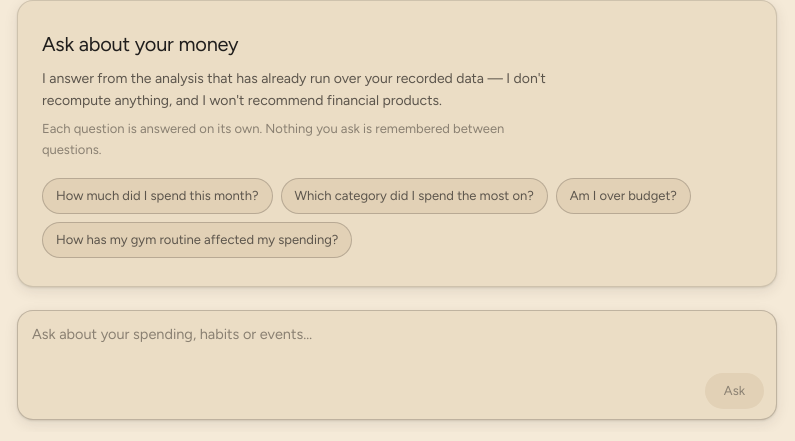
asking a question › shows the question, then the answer
Type "How much did I spend?" into the text box named "ask a question" at point(397, 343), box [30,321,764,365]
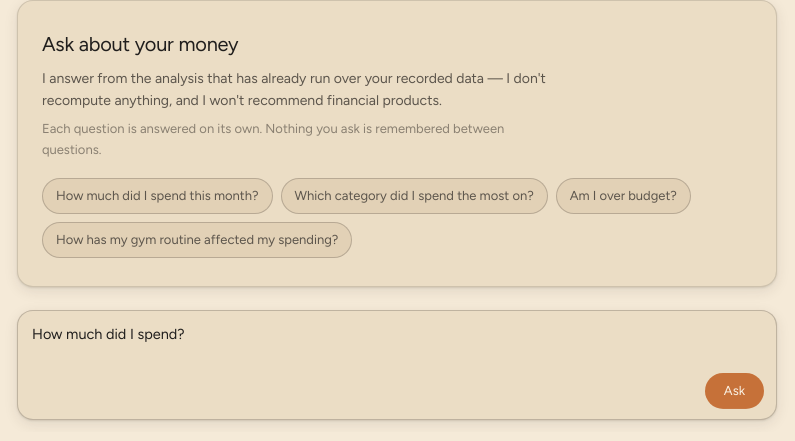
Click the button "Ask" at point(734, 391), box [705,373,764,409]
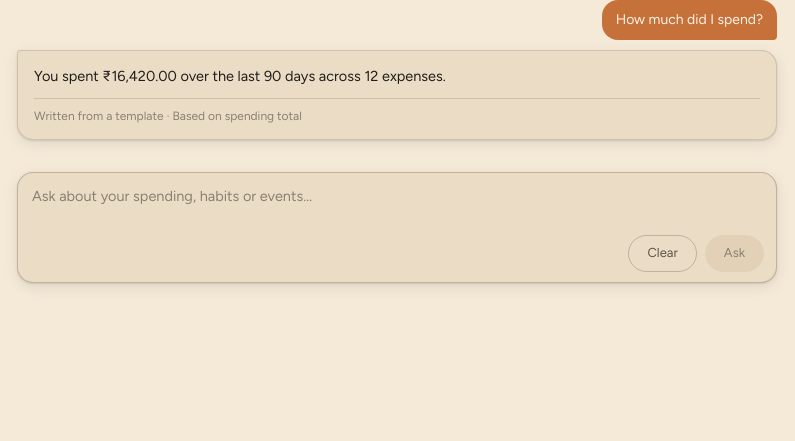
Check: the text "How much did I spend?" is shown, box [602,0,777,40]
